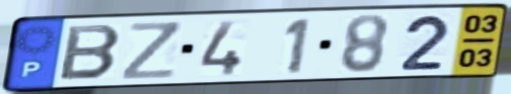1: (282, 17, 313, 75)
2: (394, 10, 457, 74)
4: (198, 18, 247, 78)
8: (339, 12, 391, 75)
B: (56, 23, 125, 82)
Z: (120, 19, 184, 82)
